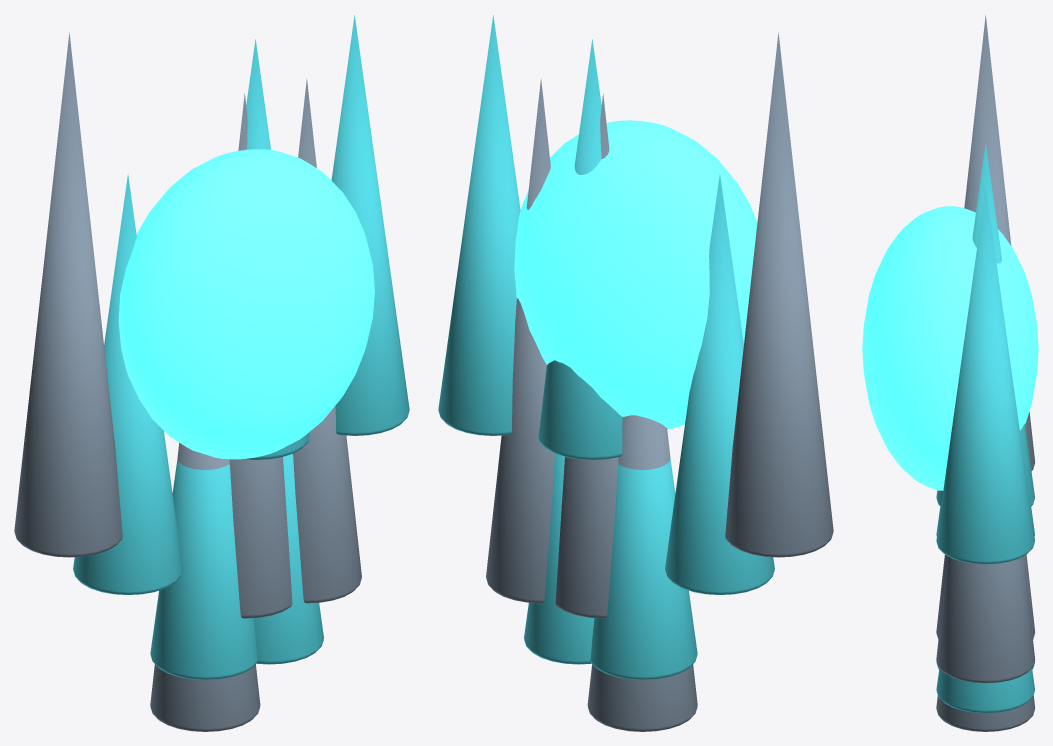
Rendered from elemental_v2.glb.
3 renders of one model, left to right at view 1: azimuth 30°, elevation 25°; view 2: azimuth 150°, elevation 25°; view 3: azimuth 270°, elevation 25°, orthographic. The views are drawn at different scales.
Visible parts, largest first — view 1: FLAME_CORE_EMISSIVE, FLAME_TONGUE_PRIMARY.002, FLAME_TONGUE_ACCENT.003, FLAME_TONGUE_ACCENT.002, FLAME_TONGUE_ACCENT.004, FLAME_TONGUE_PRIMARY, FLAME_TONGUE_PRIMARY.003, FLAME_TONGUE_PRIMARY.001, FLAME_TONGUE_ACCENT, FLAME_TONGUE_ACCENT.001; view 2: FLAME_CORE_EMISSIVE, FLAME_TONGUE_PRIMARY.002, FLAME_TONGUE_ACCENT.004, FLAME_TONGUE_ACCENT.002, FLAME_TONGUE_ACCENT.003, FLAME_TONGUE_PRIMARY, FLAME_TONGUE_PRIMARY.003, FLAME_TONGUE_ACCENT.001, FLAME_TONGUE_PRIMARY.001, FLAME_TONGUE_ACCENT; view 3: FLAME_CORE_EMISSIVE, FLAME_TONGUE_ACCENT.004, FLAME_TONGUE_PRIMARY, FLAME_TONGUE_PRIMARY.002, FLAME_TONGUE_ACCENT, FLAME_TONGUE_PRIMARY.001, FLAME_TONGUE_ACCENT.001, FLAME_TONGUE_PRIMARY.003.
Part boxes in pixels (x1,y1,x2,y2): FLAME_CORE_EMISSIVE: (118,149,374,459); FLAME_TONGUE_PRIMARY.002: (14,32,122,557); FLAME_TONGUE_ACCENT.003: (150,458,257,679); FLAME_TONGUE_ACCENT.002: (73,174,182,594); FLAME_TONGUE_ACCENT.004: (331,15,409,435); FLAME_TONGUE_PRIMARY: (293,78,361,603); FLAME_TONGUE_PRIMARY.003: (229,93,292,618); FLAME_TONGUE_PRIMARY.001: (150,443,260,731); FLAME_TONGUE_ACCENT: (253,453,323,664); FLAME_TONGUE_ACCENT.001: (241,39,309,460); FLAME_CORE_EMISSIVE: (514,120,757,429); FLAME_TONGUE_PRIMARY.002: (725,32,833,557); FLAME_TONGUE_ACCENT.004: (438,15,520,435); FLAME_TONGUE_ACCENT.002: (665,174,774,594); FLAME_TONGUE_ACCENT.003: (590,458,697,679); FLAME_TONGUE_PRIMARY: (486,78,554,603); FLAME_TONGUE_PRIMARY.003: (555,93,618,618); FLAME_TONGUE_ACCENT.001: (538,39,622,460); FLAME_TONGUE_PRIMARY.001: (587,415,697,731); FLAME_TONGUE_ACCENT: (524,453,594,664); FLAME_CORE_EMISSIVE: (862,206,1038,490); FLAME_TONGUE_ACCENT.004: (936,186,1034,564); FLAME_TONGUE_PRIMARY: (936,556,1035,683); FLAME_TONGUE_PRIMARY.002: (964,15,1034,470); FLAME_TONGUE_ACCENT: (936,668,1034,713); FLAME_TONGUE_PRIMARY.001: (936,695,1034,731); FLAME_TONGUE_ACCENT.001: (936,143,1034,506); FLAME_TONGUE_PRIMARY.003: (936,554,1034,639).
Size of the model in its own units: 1.34 by 2.4 by 0.6.
